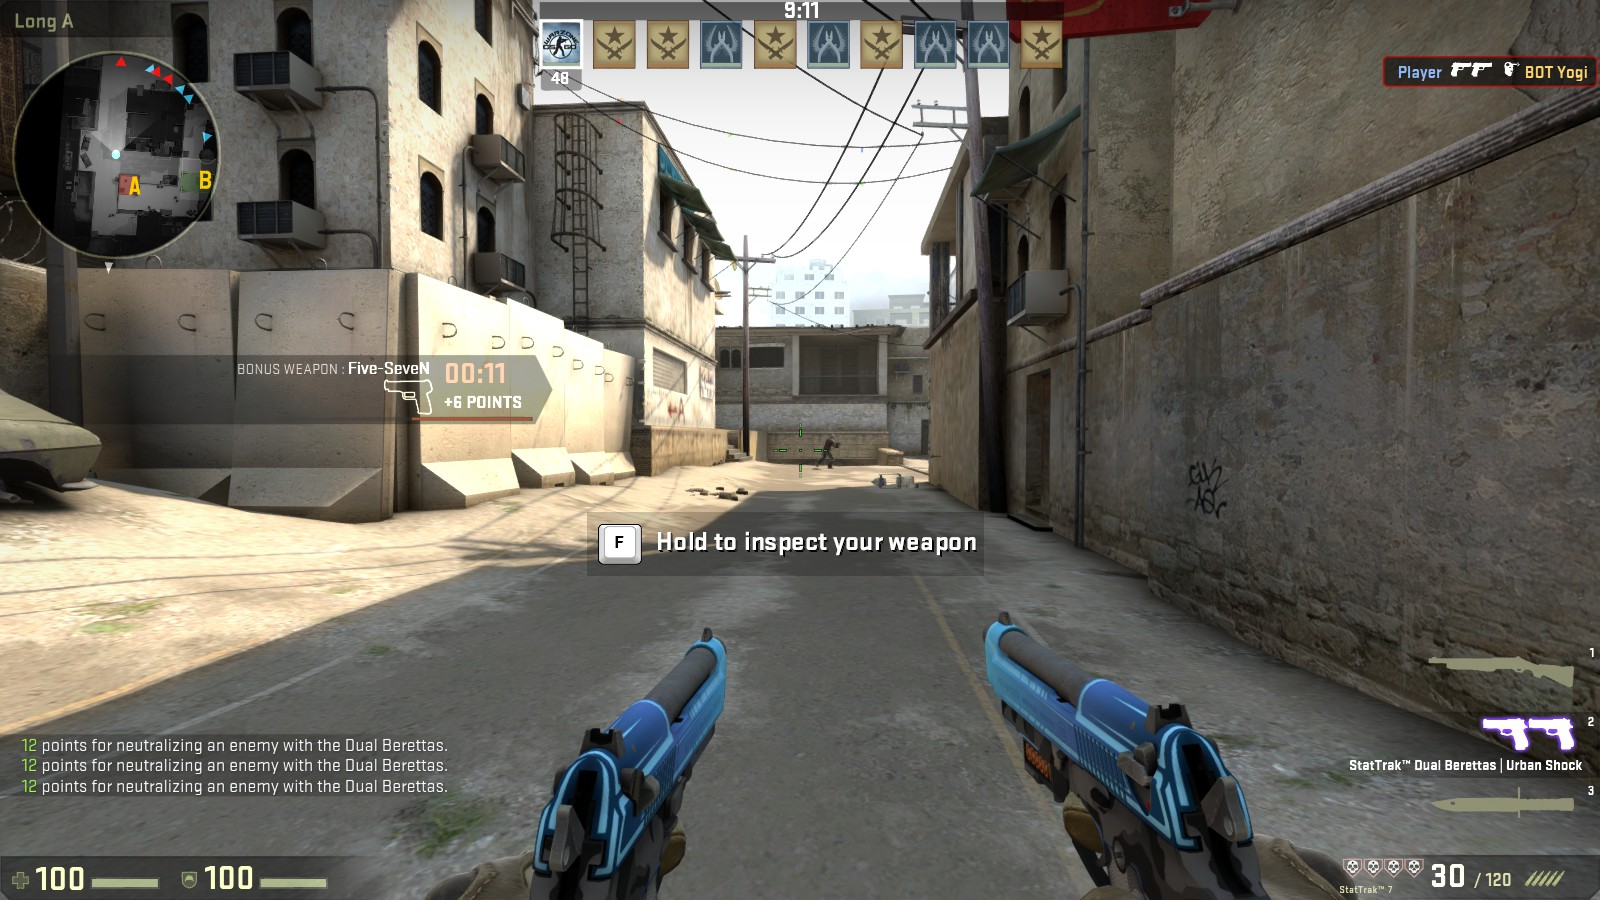t: (820, 433, 836, 470)
